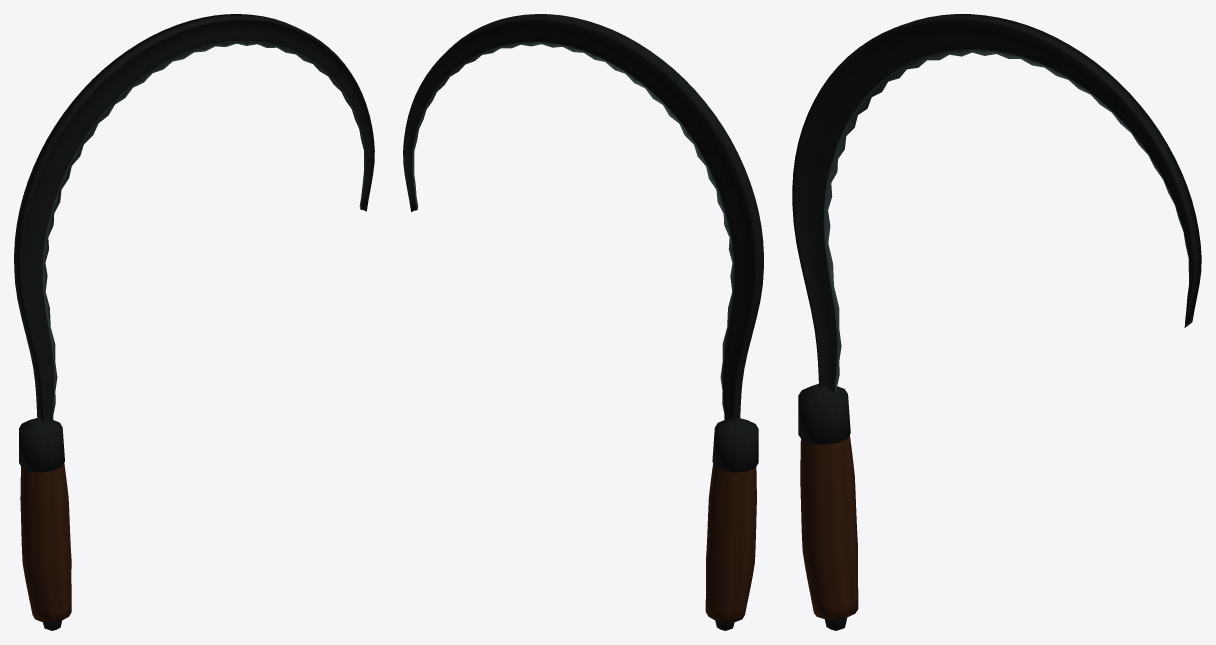
File: sickle.glb
3 views of the same model, side by side, from view 1: azimuth 30°, elevation 25°; view 2: azimuth 150°, elevation 25°; view 3: azimuth 330°, elevation 25° (orthographic). The views are drawn at different scales.
Parts seen in each view (by area): view 1: ReapingBlade, TurnedGrip, Ferrule; view 2: ReapingBlade, TurnedGrip, Ferrule; view 3: ReapingBlade, TurnedGrip, Ferrule.
Boxes of the visible parts, box(x1,y1,x2,y2) form: ReapingBlade: box(14, 14, 374, 422); TurnedGrip: box(20, 463, 71, 622); Ferrule: box(19, 417, 64, 472); ReapingBlade: box(403, 14, 763, 422); TurnedGrip: box(705, 463, 756, 622); Ferrule: box(712, 417, 758, 472); ReapingBlade: box(792, 14, 1201, 393); TurnedGrip: box(800, 435, 858, 620); Ferrule: box(798, 383, 850, 444).
Size of the model in its own units: 0.281 by 0.4338 by 0.0336.
Materials: 3 (3 with a texture image).
